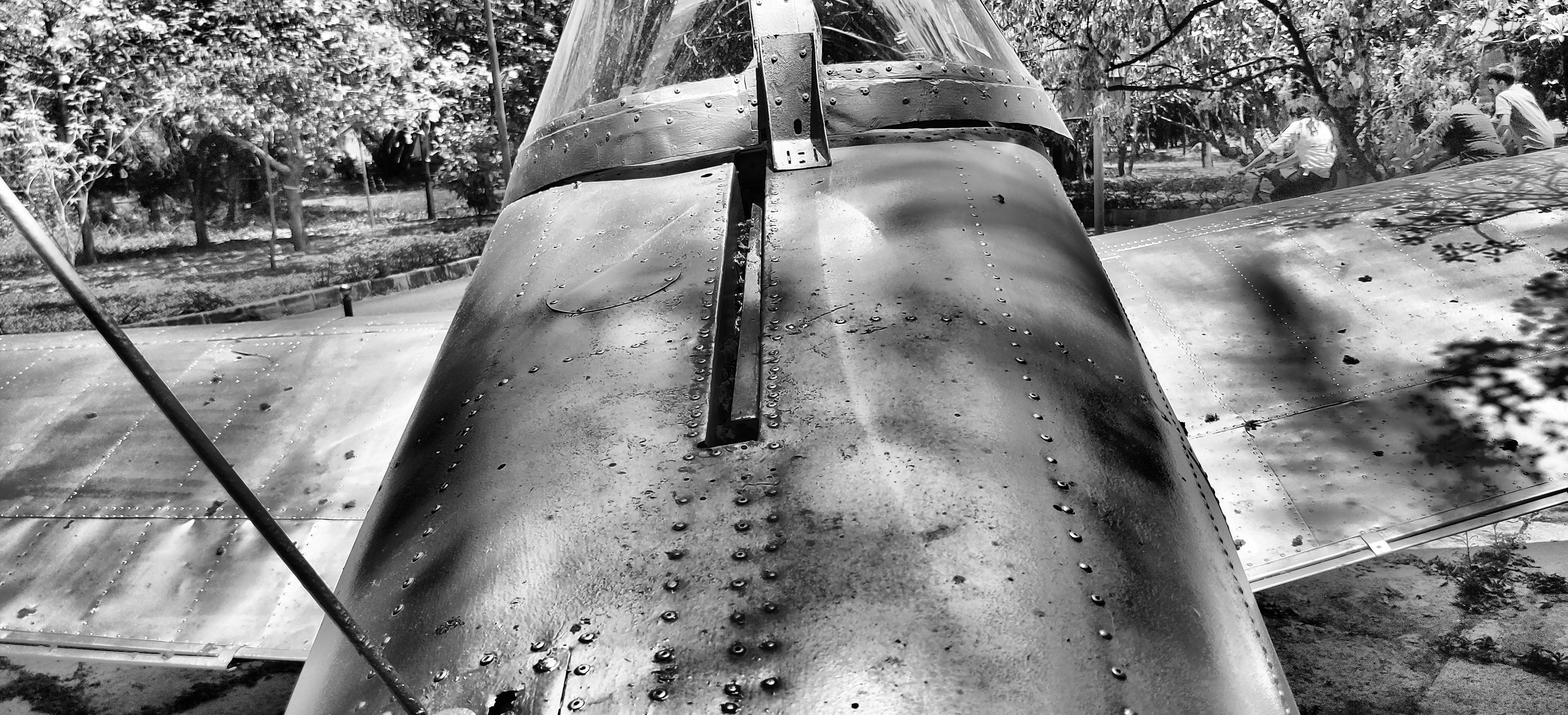crack: (488, 689, 517, 715)
dent: (178, 515, 197, 532)
missing-head: (769, 466, 777, 472), (740, 444, 748, 450), (666, 338, 674, 344), (740, 475, 749, 480), (683, 477, 691, 482), (700, 496, 707, 501), (681, 336, 688, 341), (710, 479, 717, 483), (869, 125, 873, 129), (752, 137, 756, 141), (698, 142, 703, 145), (558, 171, 561, 176), (650, 151, 653, 155), (622, 159, 625, 163), (1469, 414, 1472, 416), (991, 73, 994, 75)
scratch: (805, 304, 850, 323)
